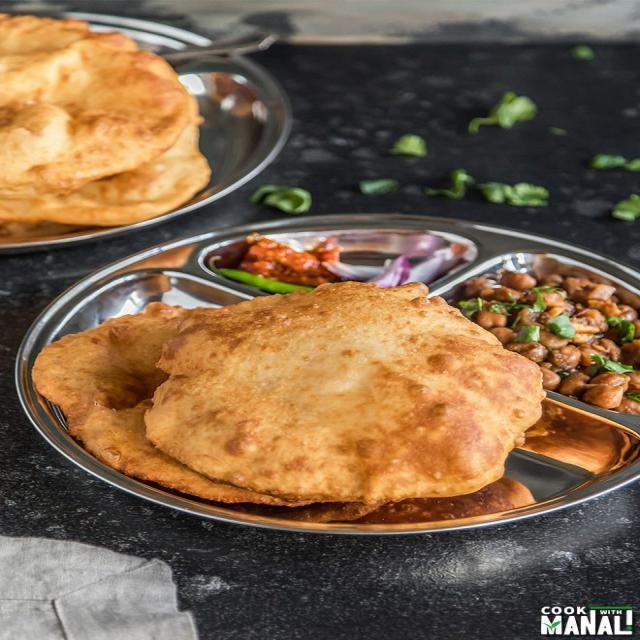puri: (33, 282, 544, 505)
